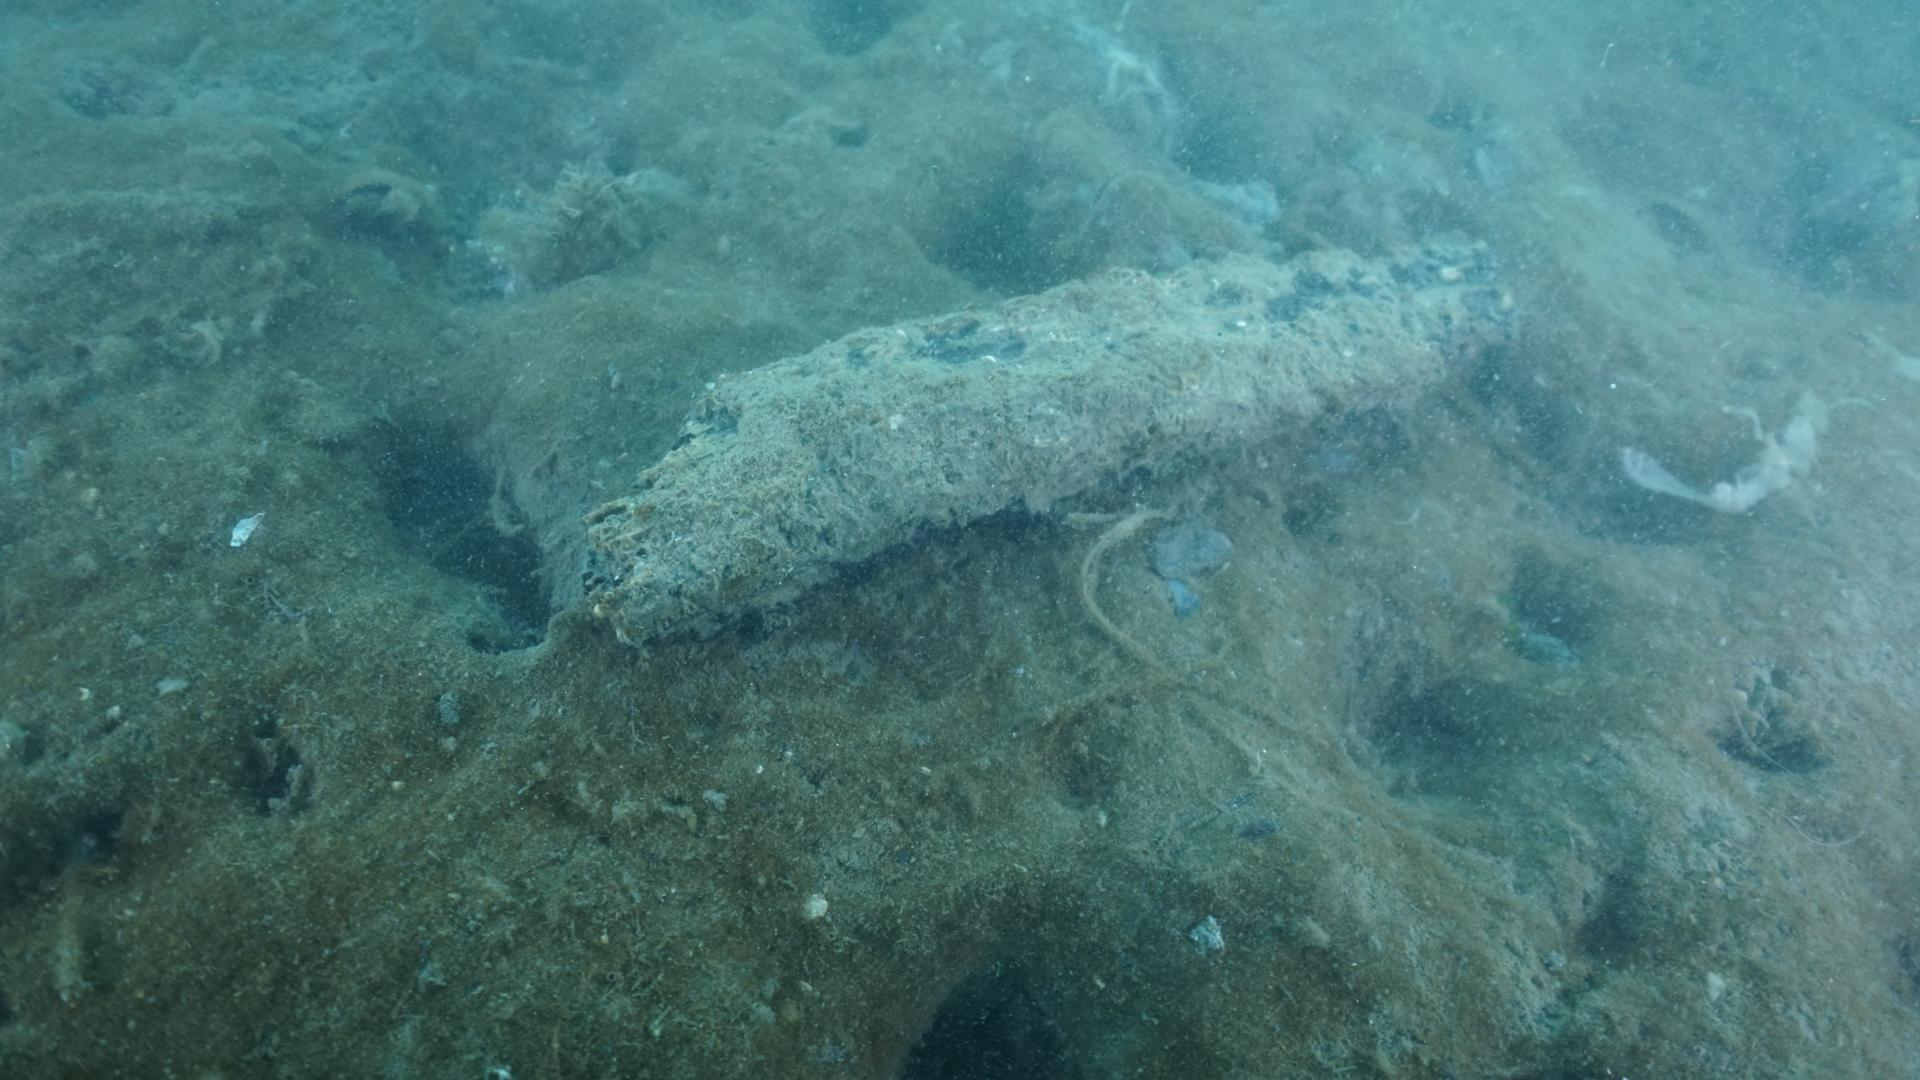wood: (575, 223, 1516, 680)
